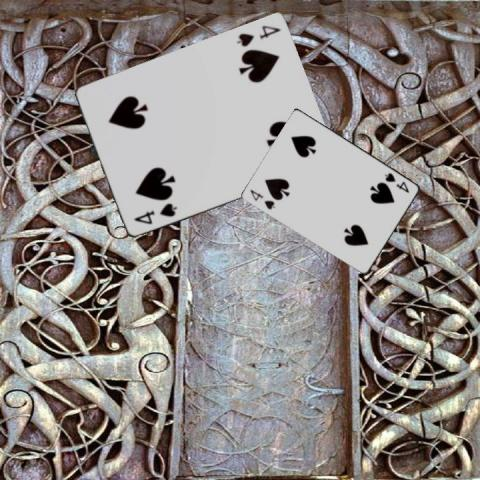4s: (234, 22, 282, 48), (130, 200, 176, 226), (248, 186, 278, 210), (382, 170, 411, 194)
